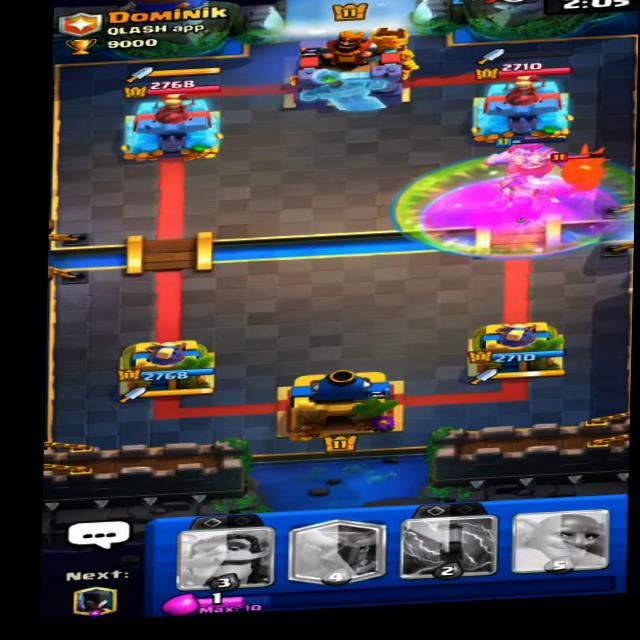pekka: (527, 140, 627, 202)
